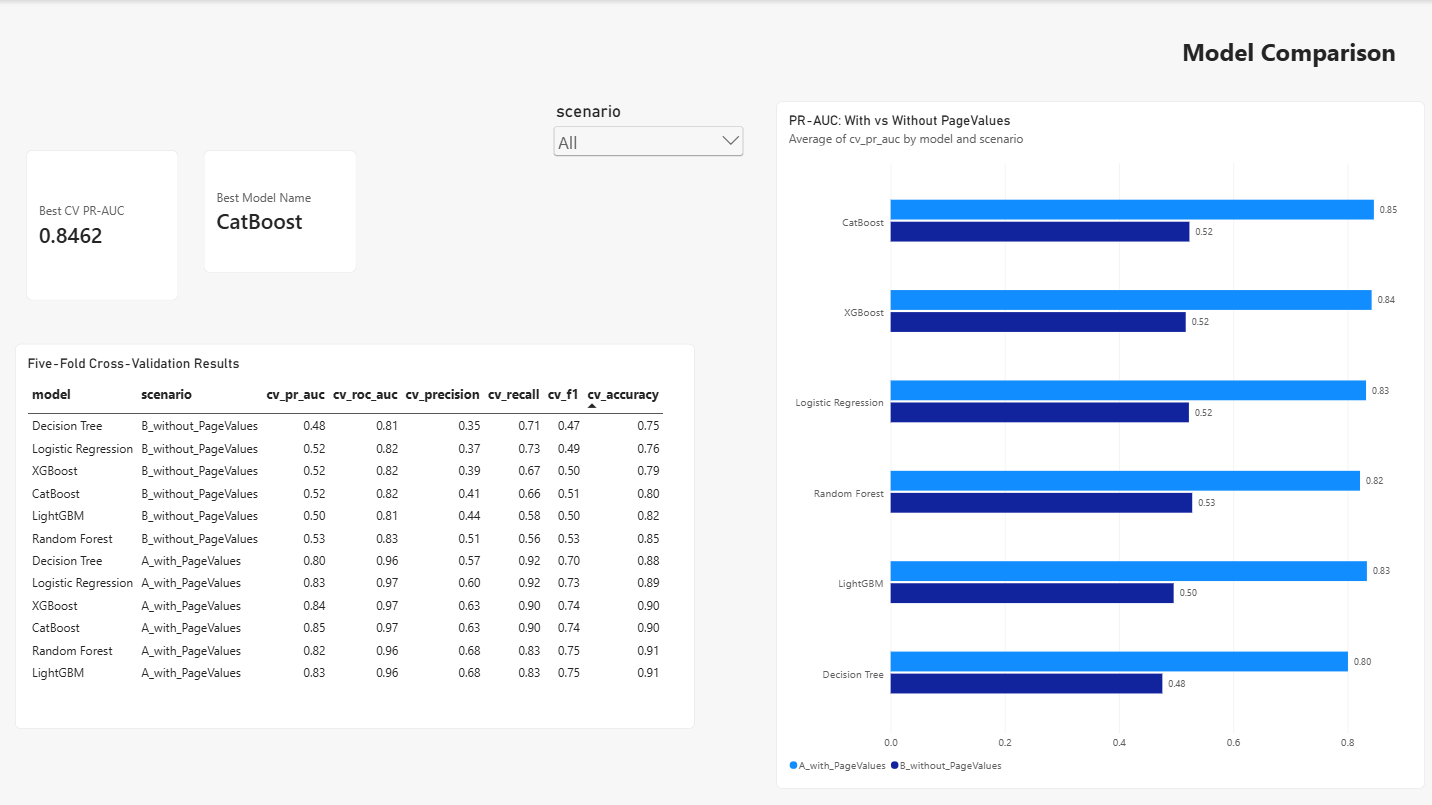

The page's visual inventory and layout, read from the dashboard file:
{"tool":"powerbi","page":{"name":"Model Comparison","canvas":[1920,1080],"ordinal":2},"visuals":[{"type":"tableEx","title":"Five-Fold Cross-Validation Results","fields":{"Values":["model_results.model","model_results.scenario","model_results.cv_pr_auc","model_results.cv_roc_auc","model_results.cv_precision","model_results.cv_recall","model_results.cv_f1","model_results.cv_accuracy"]},"box":[20.6,459,907.7,514.6],"z":0},{"type":"clusteredBarChart","title":"PR-AUC: With vs Without PageValues","fields":{"Category":["model_results.model"],"Series":["model_results.scenario"],"Y":["Avg(model_results.cv_pr_auc)"]},"box":[1037.4,135.8,866.6,918],"z":1000},{"type":"slicer","fields":{"Values":["model_results.scenario"]},"box":[734.8,135.8,263.5,86.4],"z":2000},{"type":"cardVisual","fields":{"Data":["model_results.Best CV PR-AUC"]},"box":[35,199.7,203.8,201.7],"z":3000},{"type":"cardVisual","fields":{"Data":["model_results.Best Model Name"]},"box":[271.7,199.7,204,164],"z":4000},{"type":"textbox","box":[1539.6,10.3,364.3,125.6],"z":5000}]}

Visuals, with their boxes in screenshot pixels (x1, y1, x2, y2), scaled from the page's 1920x1080 canvas onto the 1432x805 screenshot:
"Five-Fold Cross-Validation Results" tableEx: {"left": 15, "top": 342, "right": 692, "bottom": 726}
"PR-AUC: With vs Without PageValues" clusteredBarChart: {"left": 774, "top": 101, "right": 1420, "bottom": 785}
slicer - model_results.scenario: {"left": 548, "top": 101, "right": 745, "bottom": 166}
cardVisual - model_results.Best CV PR-AUC: {"left": 26, "top": 149, "right": 178, "bottom": 299}
cardVisual - model_results.Best Model Name: {"left": 203, "top": 149, "right": 355, "bottom": 271}
textbox: {"left": 1148, "top": 8, "right": 1420, "bottom": 101}
